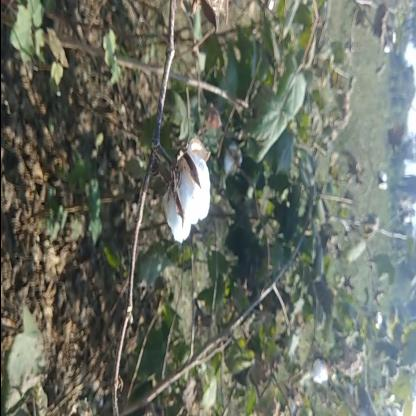cotton_ready: (132, 112, 226, 248)
